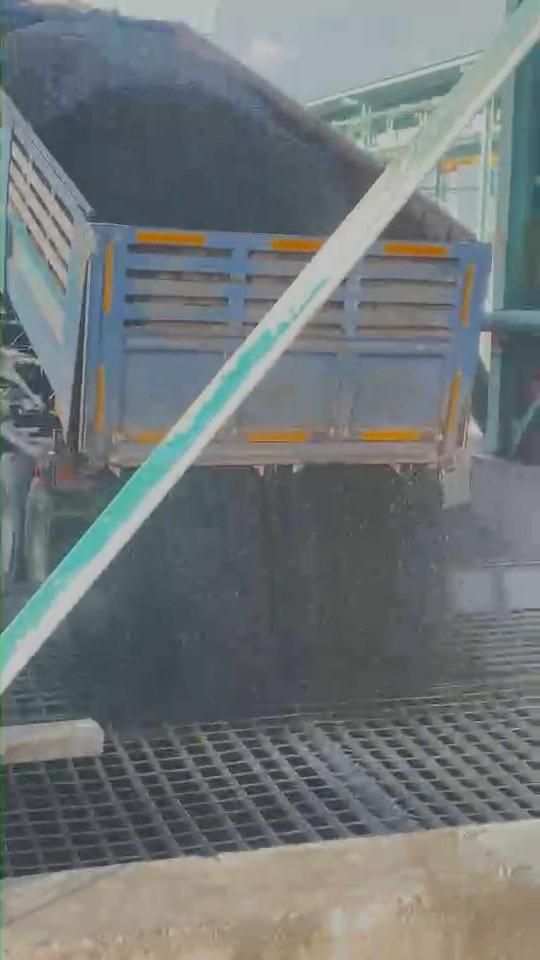gravel: (97, 466, 436, 704), (6, 21, 345, 231)
